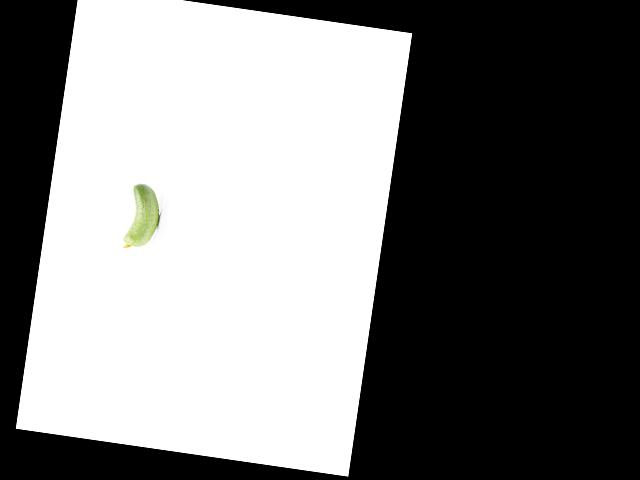cucumber: (122, 181, 164, 252)
